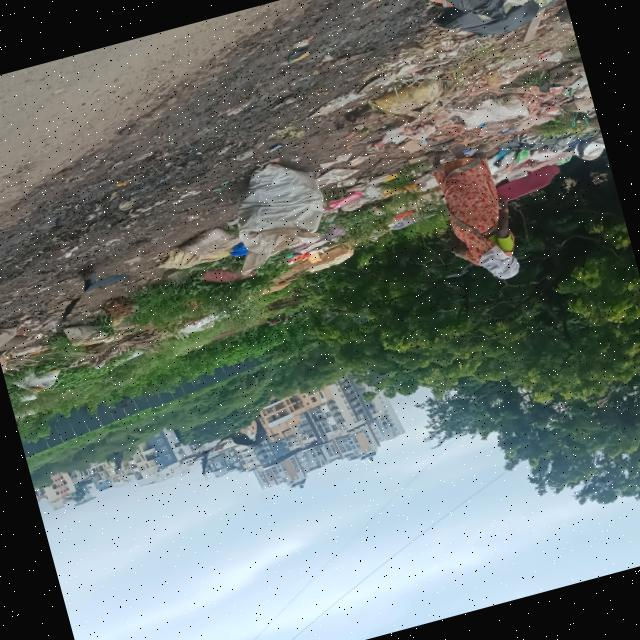garbage: (140, 161, 442, 309), (414, 0, 607, 192), (0, 283, 223, 391)
